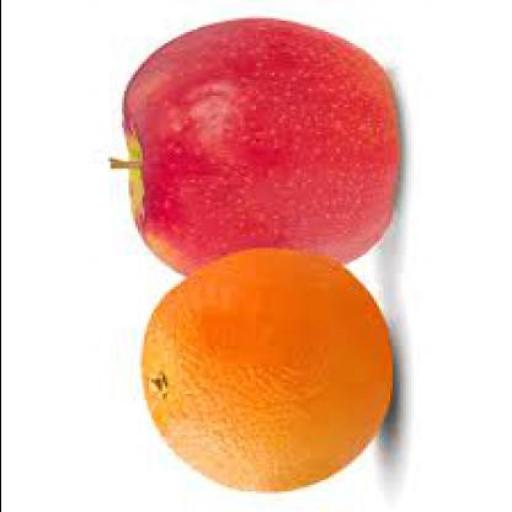biodegradable: (105, 18, 396, 276), (139, 243, 387, 489)
